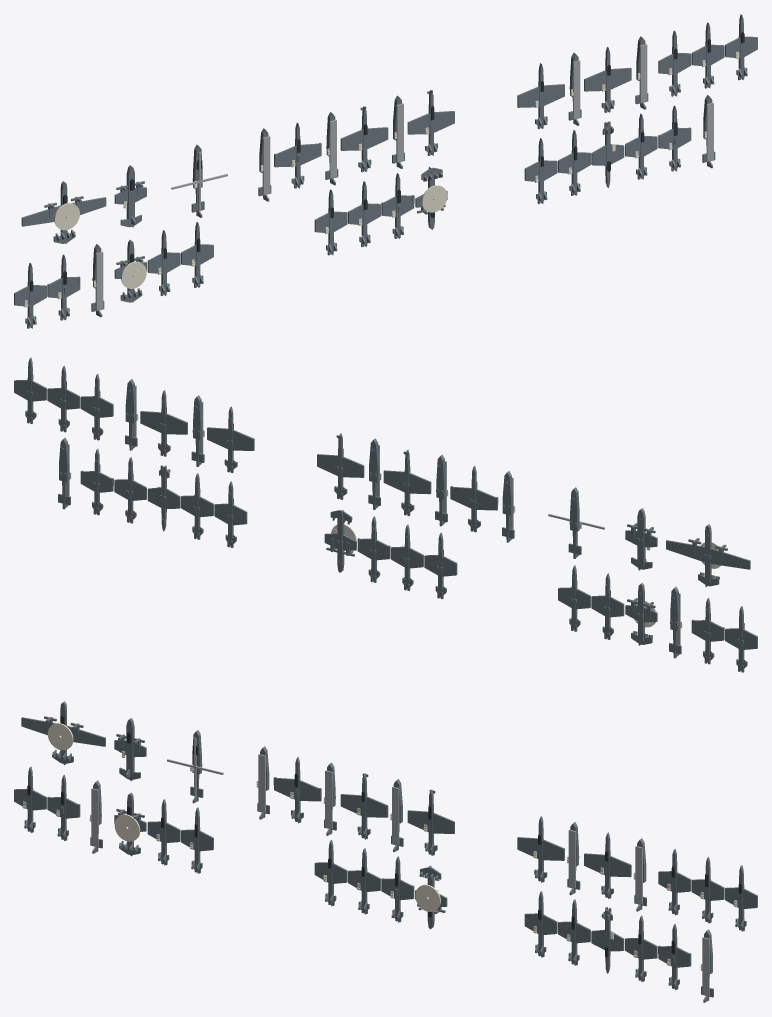
File: CVN69_AirWing_Default_Layout.obj
3 renders of one model, top to bottom at view 1: azimuth 30°, elevation 25°; view 2: azimuth 150°, elevation 25°; view 3: azimuth 330°, elevation 25°, orthographic.
Visible parts, largest first — view 1: AW001_AircraftBody, AW006_AircraftBody, AW009_AircraftBody, AW008_AircraftBody, AW005_AircraftBody, AW007_AircraftBody, AW002_AircraftBody, AW018_AircraftBody, AW010_AircraftBody, AW020_AircraftBody, AW026_AircraftBody, AW028_AircraftBody (+15 smaller); view 2: AW001_AircraftBody, AW006_AircraftBody, AW005_AircraftBody, AW007_AircraftBody, AW008_AircraftBody, AW009_AircraftBody, AW002_AircraftBody, AW025_AircraftBody, AW017_AircraftBody, AW022_AircraftBody, AW018_AircraftBody, AW026_AircraftBody (+20 smaller); view 3: AW001_AircraftBody, AW006_AircraftBody, AW007_AircraftBody, AW008_AircraftBody, AW005_AircraftBody, AW009_AircraftBody, AW002_AircraftBody, AW018_AircraftBody, AW020_AircraftBody, AW022_AircraftBody, AW026_AircraftBody, AW010_AircraftBody (+15 smaller).
Part boxes in pixels (x1,y1,x2,y2): AW001_AircraftBody: (21,181,106,244); AW006_AircraftBody: (340,106,388,172); AW009_AircraftBody: (584,47,631,112); AW008_AircraftBody: (517,63,564,129); AW005_AircraftBody: (274,123,321,188); AW007_AircraftBody: (407,90,454,155); AW002_AircraftBody: (114,165,146,227); AW018_AircraftBody: (147,230,180,295); AW010_AircraftBody: (658,30,691,96); AW020_AircraftBody: (314,189,347,255); AW026_AircraftBody: (524,138,557,204); AW028_AircraftBody: (591,121,624,187); AW001_AircraftBody: (666,524,750,586); AW006_AircraftBody: (383,449,431,515); AW005_AircraftBody: (450,466,498,532); AW007_AircraftBody: (317,433,364,499); AW008_AircraftBody: (207,406,254,472); AW009_AircraftBody: (140,390,187,456); AW002_AircraftBody: (625,508,657,570); AW025_AircraftBody: (324,510,356,572); AW017_AircraftBody: (625,582,657,645); AW022_AircraftBody: (357,516,390,582); AW018_AircraftBody: (591,573,624,639); AW026_AircraftBody: (214,481,247,547); AW001_AircraftBody: (21,701,105,764); AW006_AircraftBody: (340,773,388,839); AW007_AircraftBody: (407,789,454,855); AW008_AircraftBody: (517,816,564,882); AW005_AircraftBody: (273,757,321,823); AW009_AircraftBody: (584,832,631,898); AW002_AircraftBody: (114,718,146,780); AW018_AircraftBody: (147,799,180,865); AW020_AircraftBody: (314,840,347,906); AW022_AircraftBody: (381,856,414,922); AW026_AircraftBody: (524,891,557,957); AW010_AircraftBody: (658,849,691,915).
Bounding box in the file's own units: 311 × 58.23 × 4.2.
